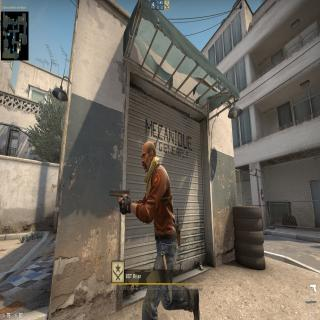T-Head: (140, 140, 160, 175)
